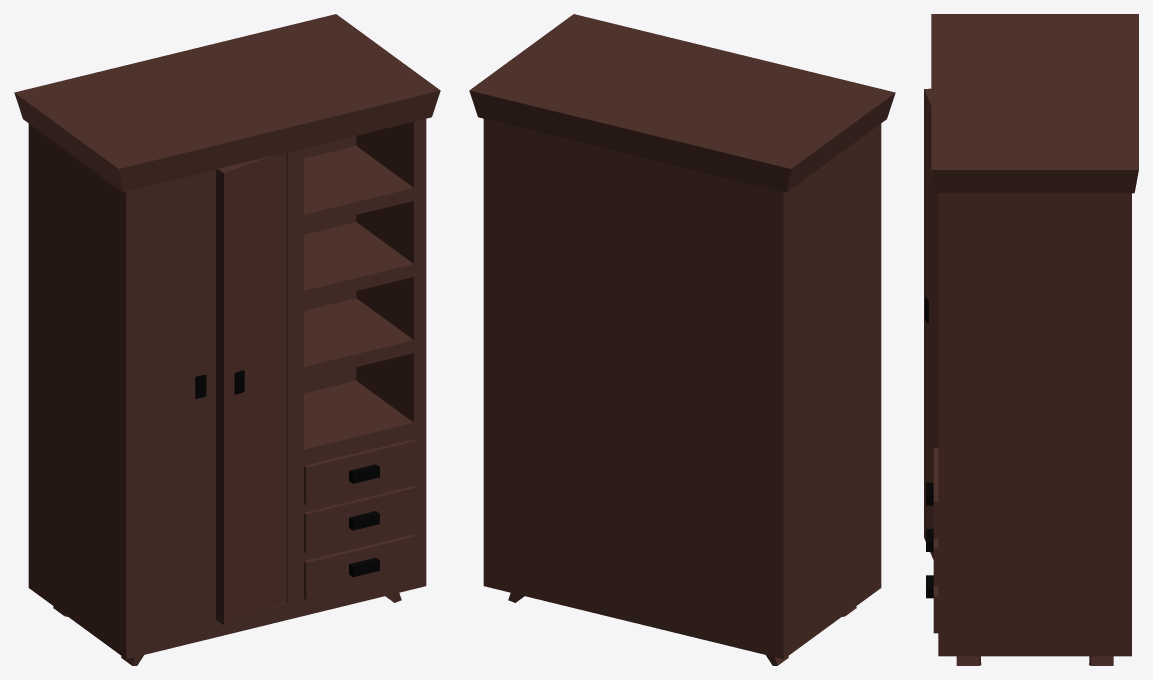
The model's file is Closet.fbx.
3 views of the same model, side by side, from view 1: azimuth 30°, elevation 25°; view 2: azimuth 150°, elevation 25°; view 3: azimuth 270°, elevation 25° (orthographic).
Visible parts, largest first — view 1: Cube; view 2: Cube; view 3: Cube, Cube.001.
Part boxes in pixels (<box>): Cube: <box>14,14,440,659</box>; Cube: <box>469,14,895,659</box>; Cube: <box>924,14,1138,656</box>; Cube.001: <box>956,656,1113,665</box>.
Bounding box in the file's own units: 433 × 662 × 252.
